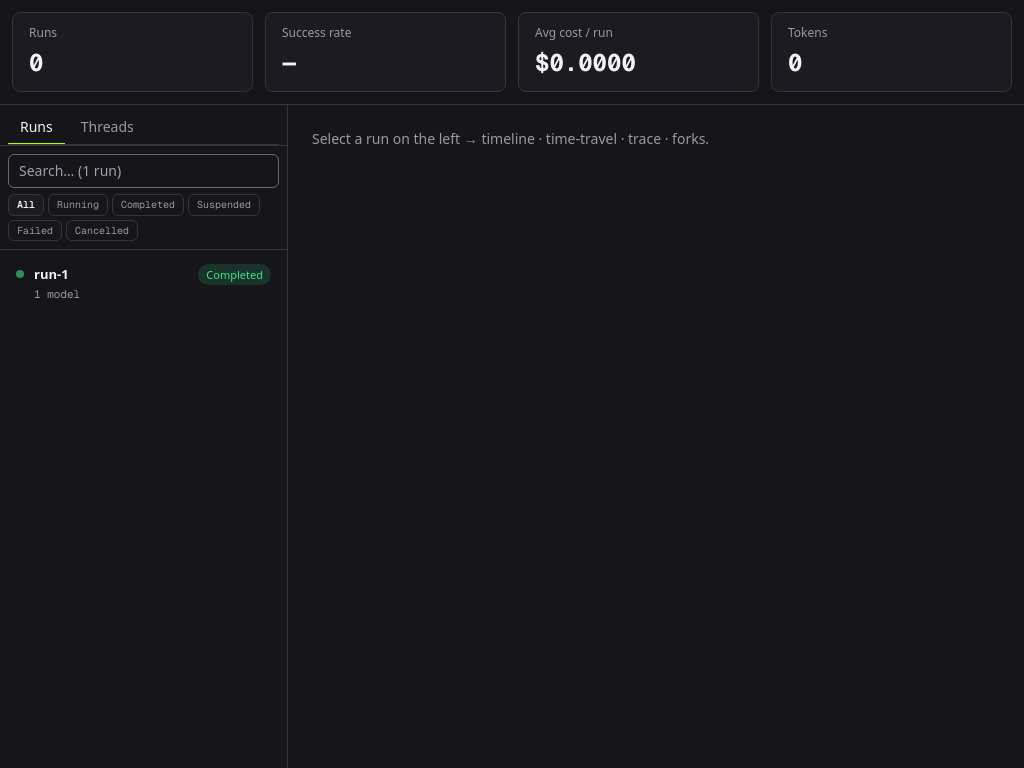
Test case: Inspector — deep links (FLOW-07) and desktop selection recovery (FLOW-12) › FLOW-12(a): the "back to run list" button is visible at desktop widths too (no md:hidden), and clears the selection
Click the text "run-1": (51, 274) [34,264,69,284]
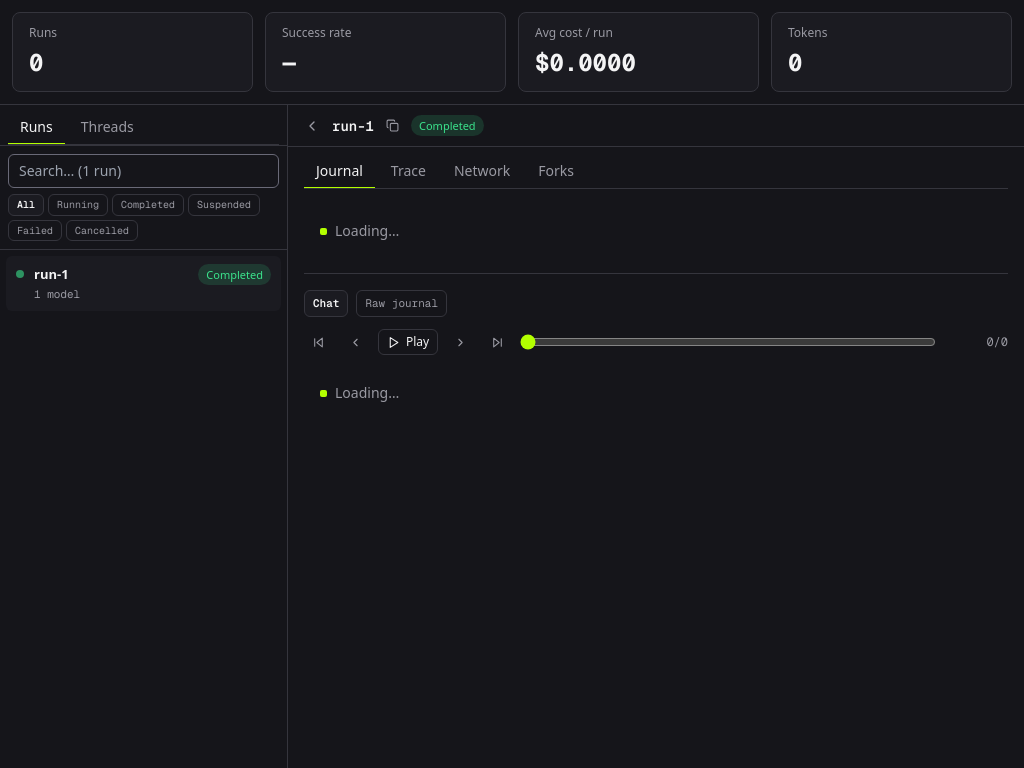
Click the button titled "Back to run list": (312, 126) [304,118,320,134]
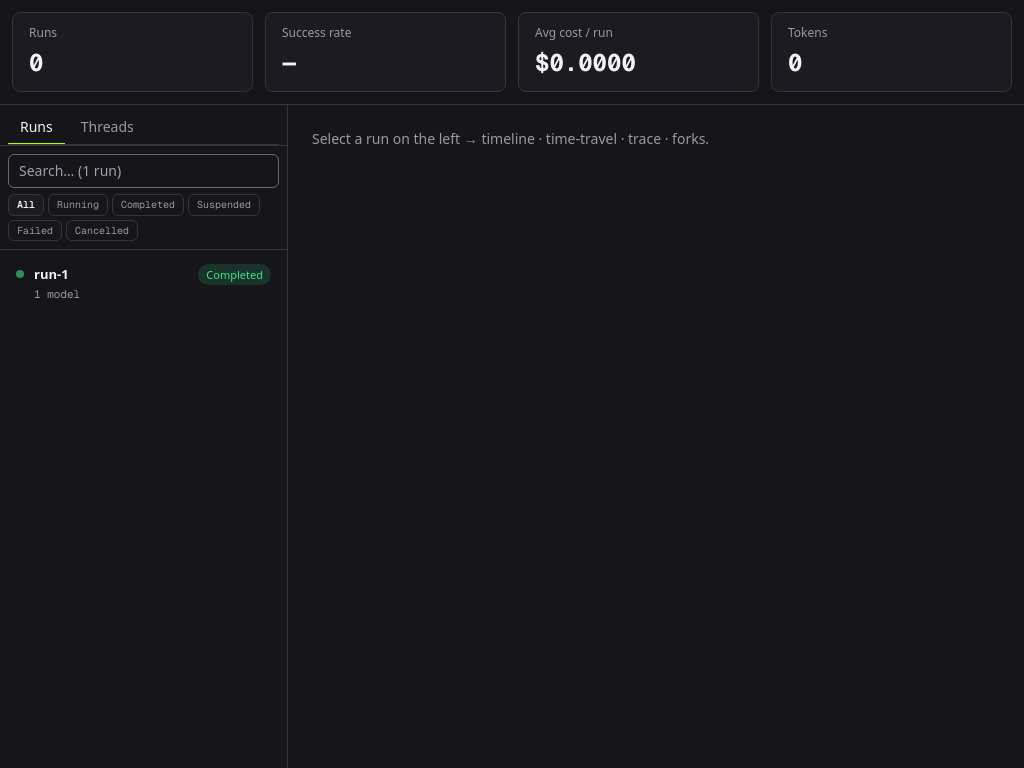
Expected: the text "Select a run on the left → timeline · time-travel · trace · forks." is shown, [312,129,709,148]
